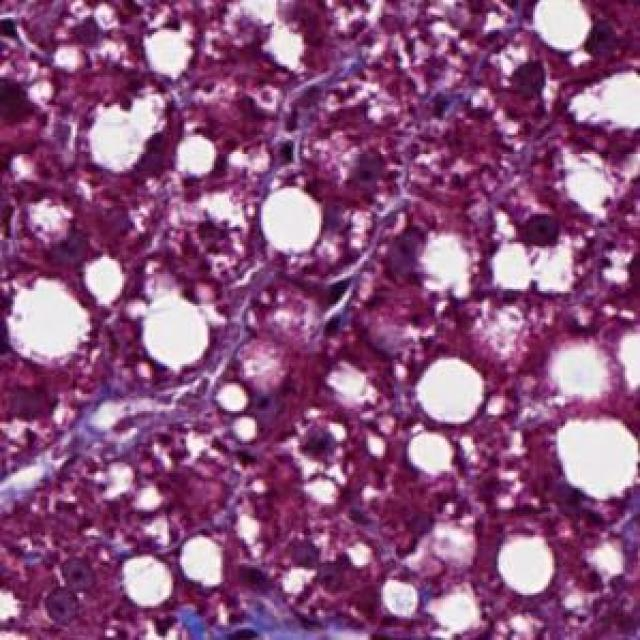steatosis: (257, 180, 334, 261), (409, 358, 490, 428)
